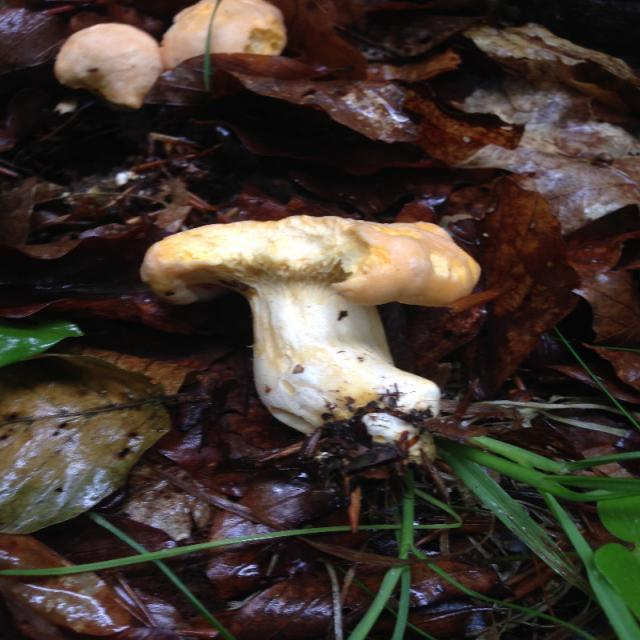Cantharellus cibarius: (146, 212, 476, 444)
